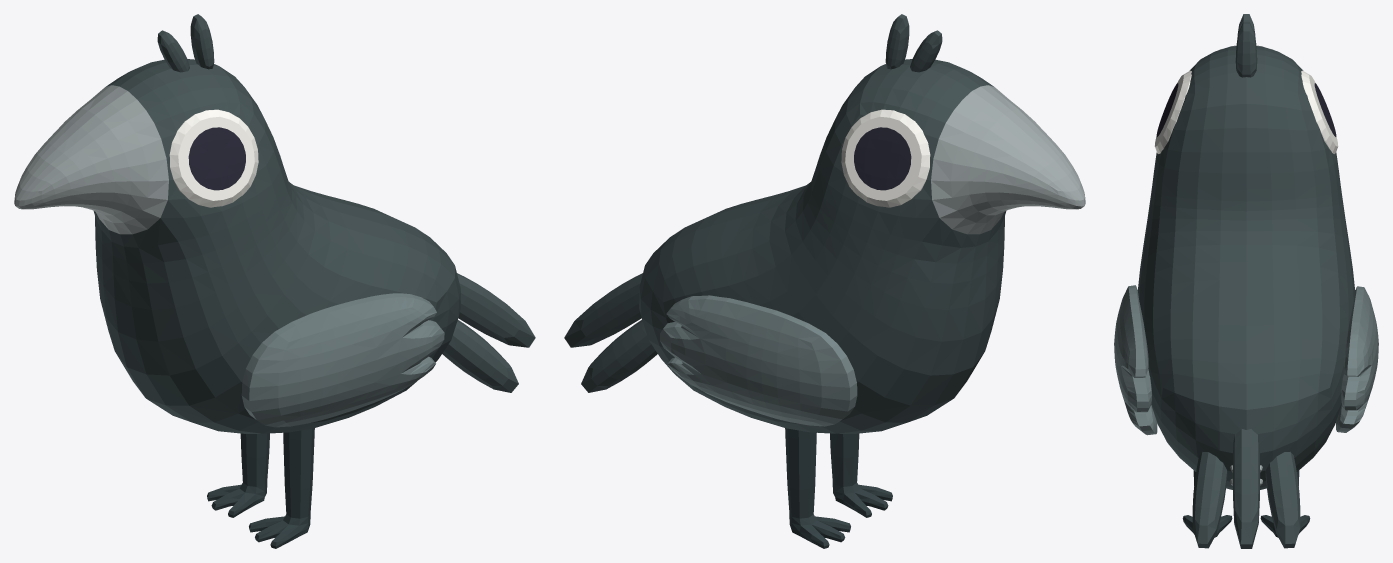
The model's file is Crow_LOD0.fbx.
3 views of the same model, side by side, from view 1: azimuth 30°, elevation 25°; view 2: azimuth 150°, elevation 25°; view 3: azimuth 270°, elevation 25° (orthographic). The views are drawn at different scales.
Parts seen in each view (by area): view 1: Mesh; view 2: Mesh; view 3: Mesh.
Boxes of the visible parts, box(x1,y1,x2,y2) form: Mesh: box(14, 14, 535, 548); Mesh: box(564, 14, 1085, 548); Mesh: box(1114, 14, 1378, 548).
Size of the model in its own units: 197 by 189 by 94.44.
Materials: 1 (1 with a texture image).
